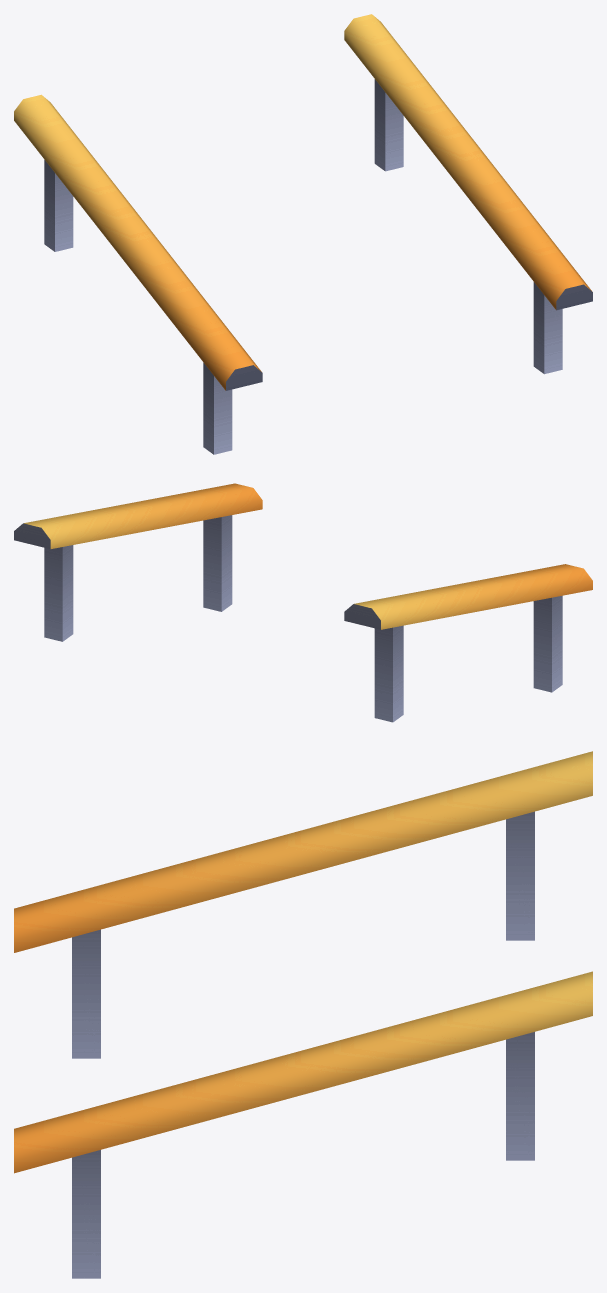
The model's file is stairs-handrail.glb.
The picture shows the model from 3 angles, top to bottom: view 1: azimuth 30°, elevation 25°; view 2: azimuth 150°, elevation 25°; view 3: azimuth 270°, elevation 25°; orthographic projection. The views are drawn at different scales.
Parts seen in each view (by area): view 1: stairs-handrail; view 2: stairs-handrail; view 3: stairs-handrail.
Part boxes in pixels (<box>): stairs-handrail: <box>14,14,592,454</box>; stairs-handrail: <box>14,483,592,722</box>; stairs-handrail: <box>14,751,592,1278</box>.
Size of the model in its own units: 1 by 0.5625 by 1.
1 material, 1 textured.
